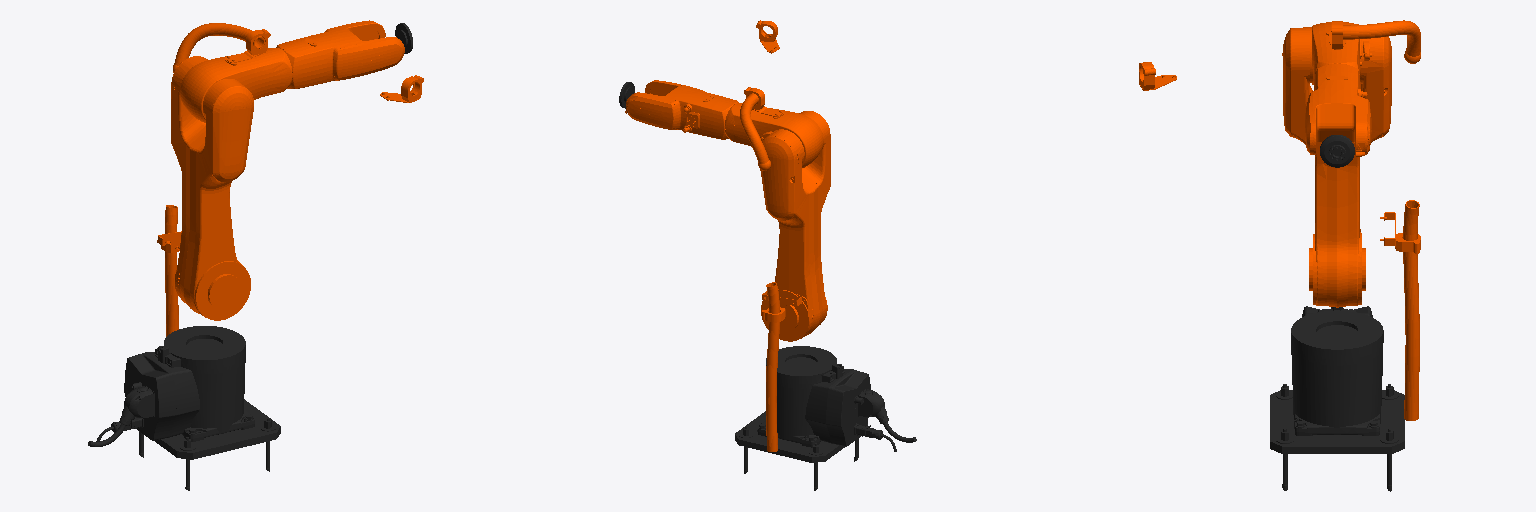
robot.urdf — kuka_kr10_r1100_2:
<?xml version="1.0"?>
<robot name="kuka_kr10_r1100_2">
  <material name="kuka_orange"><color rgba="1.00 0.40 0.00 1.0"/></material>
  <material name="kuka_dark_gray"><color rgba="0.20 0.20 0.20 1.0"/></material>

  <link name="base_link">
    <inertial>
      <origin xyz="-0.052368 -0.002035 0.064512" rpy="0 0 0"/>
      <mass value="17.778"/>
      <inertia ixx="0.152824" ixy="-0.004549" ixz="0.021034" iyy="0.224959" iyz="0.000835" izz="0.210377"/>
    </inertial>
    <visual>
      <origin xyz="0 0 0" rpy="0 0 0"/>
      <geometry><mesh filename="meshes/visual/base_link.stl"/></geometry>
      <material name="kuka_dark_gray"/>
    </visual>
    <collision>
      <origin xyz="0 0 0" rpy="0 0 0"/>
      <geometry><mesh filename="meshes/visual/base_link.stl"/></geometry>
    </collision>
  </link>

  <link name="link_1">
    <inertial>
      <origin xyz="-0.000052 0.034915 0.335934" rpy="0 0 0"/>
      <mass value="49.408"/>
      <inertia ixx="0.509606" ixy="0.039254" ixz="-0.027661" iyy="0.311894" iyz="0.010590" izz="0.454872"/>
    </inertial>
    <visual>
      <origin xyz="0 0 0" rpy="0 0 0"/>
      <geometry><mesh filename="meshes/visual/link_1.stl"/></geometry>
      <material name="kuka_orange"/>
    </visual>
    <collision>
      <origin xyz="0 0 0" rpy="0 0 0"/>
      <geometry><mesh filename="meshes/visual/link_1.stl"/></geometry>
    </collision>
  </link>

  <link name="link_2">
    <inertial>
      <origin xyz="-0.012116 0.042218 0.204572" rpy="0 0 0"/>
      <mass value="68.721"/>
      <inertia ixx="3.310709" ixy="0.022396" ixz="-0.050561" iyy="2.996785" iyz="0.498047" izz="0.528544"/>
    </inertial>
    <visual>
      <origin xyz="0 0 0" rpy="0 0 0"/>
      <geometry><mesh filename="meshes/visual/link_2.stl"/></geometry>
      <material name="kuka_orange"/>
    </visual>
    <collision>
      <origin xyz="0 0 0" rpy="0 0 0"/>
      <geometry><mesh filename="meshes/visual/link_2.stl"/></geometry>
    </collision>
  </link>

  <link name="link_3">
    <inertial>
      <origin xyz="0.072388 0.032986 0.042493" rpy="0 0 0"/>
      <mass value="22.904"/>
      <inertia ixx="0.148939" ixy="0.008211" ixz="-0.023772" iyy="0.157887" iyz="-0.014855" izz="0.185625"/>
    </inertial>
    <visual>
      <origin xyz="0 0 0" rpy="0 0 0"/>
      <geometry><mesh filename="meshes/visual/link_3.stl"/></geometry>
      <material name="kuka_orange"/>
    </visual>
    <collision>
      <origin xyz="0 0 0" rpy="0 0 0"/>
      <geometry><mesh filename="meshes/visual/link_3.stl"/></geometry>
    </collision>
  </link>

  <link name="link_4">
    <inertial>
      <origin xyz="-0.141288 -0.050893 0.009477" rpy="0 0 0"/>
      <mass value="5.542"/>
      <inertia ixx="0.092609" ixy="-0.005001" ixz="0.000906" iyy="0.041996" iyz="0.012883" izz="0.116611"/>
    </inertial>
    <visual>
      <origin xyz="0 0 0" rpy="0 0 0"/>
      <geometry><mesh filename="meshes/visual/link_4.stl"/></geometry>
      <material name="kuka_orange"/>
    </visual>
    <collision>
      <origin xyz="0 0 0" rpy="0 0 0"/>
      <geometry><mesh filename="meshes/visual/link_4.stl"/></geometry>
    </collision>
  </link>

  <link name="link_5">
    <inertial>
      <origin xyz="0.014659 -0.001154 -0.000067" rpy="0 0 0"/>
      <mass value="8.848"/>
      <inertia ixx="0.018948" ixy="-0.000087" ixz="0.000009" iyy="0.020989" iyz="0.000019" izz="0.022718"/>
    </inertial>
    <visual>
      <origin xyz="0 0 0" rpy="0 0 0"/>
      <geometry><mesh filename="meshes/visual/link_5.stl"/></geometry>
      <material name="kuka_orange"/>
    </visual>
    <collision>
      <origin xyz="0 0 0" rpy="0 0 0"/>
      <geometry><mesh filename="meshes/visual/link_5.stl"/></geometry>
    </collision>
  </link>

  <link name="link_6">
    <inertial>
      <origin xyz="-0.012173 0.000000 -0.000034" rpy="0 0 0"/>
      <mass value="5.240"/>
      <inertia ixx="0.008010" ixy="0.000000" ixz="0.000000" iyy="0.006776" iyz="0.000001" izz="0.006808"/>
    </inertial>
    <visual>
      <origin xyz="0 0 0" rpy="0 0 0"/>
      <geometry><mesh filename="meshes/visual/link_6.stl"/></geometry>
      <material name="kuka_dark_gray"/>
    </visual>
    <collision>
      <origin xyz="0 0 0" rpy="0 0 0"/>
      <geometry><mesh filename="meshes/visual/link_6.stl"/></geometry>
    </collision>
  </link>

  <link name="tool0"/>

  <joint name="joint_a1" type="revolute">
    <parent link="base_link"/>
    <child link="link_1"/>
    <origin xyz="0.000000 0.000000 0.000000" rpy="0 0 0"/>
    <axis xyz="0.0 0.0 -1.0"/>
    <limit lower="-2.967060" upper="2.967060" effort="288.4" velocity="5.235988"/>
    <dynamics damping="5.0" friction="1.0"/>
  </joint>

  <joint name="joint_a2" type="revolute">
    <parent link="link_1"/>
    <child link="link_2"/>
    <origin xyz="0.025000 0.000000 0.400000" rpy="0 0 0"/>
    <axis xyz="0.0 1.0 0.0"/>
    <limit lower="-1.745329" upper="2.356194" effort="312.0" velocity="3.926991"/>
    <dynamics damping="5.0" friction="1.0"/>
  </joint>

  <joint name="joint_a3" type="revolute">
    <parent link="link_2"/>
    <child link="link_3"/>
    <origin xyz="0.000000 0.000000 0.560000" rpy="0 0 0"/>
    <axis xyz="0.0 1.0 0.0"/>
    <limit lower="-3.665191" upper="1.151917" effort="119.8" velocity="5.759587"/>
    <dynamics damping="5.0" friction="1.0"/>
  </joint>

  <joint name="joint_a4" type="revolute">
    <parent link="link_3"/>
    <child link="link_4"/>
    <origin xyz="0.515000 0.000000 0.025000" rpy="0 0 0"/>
    <axis xyz="-1.0 0.0 -0.0"/>
    <limit lower="-3.228859" upper="3.228859" effort="46.2" velocity="6.283185"/>
    <dynamics damping="5.0" friction="1.0"/>
  </joint>

  <joint name="joint_a5" type="revolute">
    <parent link="link_4"/>
    <child link="link_5"/>
    <origin xyz="0.000000 0.000000 0.000000" rpy="0 0 0"/>
    <axis xyz="0.0 1.0 0.0"/>
    <limit lower="-2.094395" upper="2.094395" effort="41.6" velocity="6.283185"/>
    <dynamics damping="5.0" friction="1.0"/>
  </joint>

  <joint name="joint_a6" type="revolute">
    <parent link="link_5"/>
    <child link="link_6"/>
    <origin xyz="0.090000 0.000000 0.000000" rpy="0 0 0"/>
    <axis xyz="-1.0 0.0 -0.0"/>
    <limit lower="-6.108652" upper="6.108652" effort="28.0" velocity="7.557276"/>
    <dynamics damping="5.0" friction="1.0"/>
  </joint>

  <joint name="link_6-tool0" type="fixed">
    <parent link="link_6"/>
    <child link="tool0"/>
    <origin xyz="0.000000 0.000000 0.000000" rpy="0 1.57079632679 0"/>
  </joint>
</robot>

--- Render facts (derived) ---
Views: 3 orthographic renders of the robot side by side, from view 1: azimuth 30°, elevation 25°; view 2: azimuth 150°, elevation 25°; view 3: azimuth 270°, elevation 25°.
Robot: kuka_kr10_r1100_2 — 8 links, 7 joints (6 revolute, 1 fixed); root link base_link; default pose: all joints at 0.
Links seen in each view (by area): view 1: link_2, base_link, link_4, link_3; view 2: link_2, base_link, link_4, link_3; view 3: base_link, link_2, link_4, link_3, link_6.
Boxes of the visible links, box(x1,y1,x2,y2) form: link_2: box(157, 56, 253, 336); base_link: box(88, 326, 280, 490); link_4: box(276, 20, 423, 102); link_3: box(173, 23, 292, 122); link_2: box(760, 111, 830, 451); base_link: box(735, 346, 916, 490); link_4: box(625, 20, 779, 139); link_3: box(725, 87, 823, 170); base_link: box(1270, 306, 1404, 491); link_2: box(1282, 27, 1420, 420); link_4: box(1139, 62, 1371, 156); link_3: box(1310, 20, 1420, 84); link_6: box(1320, 135, 1354, 167).
Size in the robot's own frame: 1.01 by 0.6701 by 1.24 metres.
5 mesh visuals loaded from 7 distinct referenced files (5 binary STL); not drawn: 2 (reference not matched to a file when rendering).
